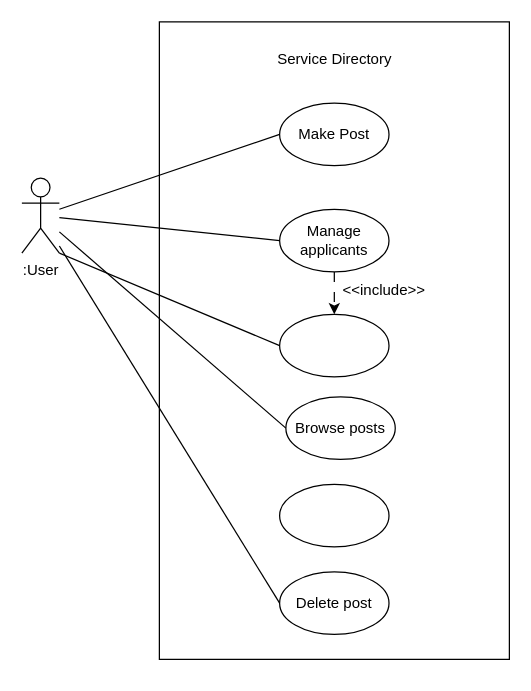
Some shapes in this 531 by 691 pixel diagram are drawn without their labels. The box of each missing label's shape, as (x1, y1, x2, y2) in pixels:
Search/filter posts: (278, 483, 389, 547)
View applicants: (278, 313, 389, 377)
